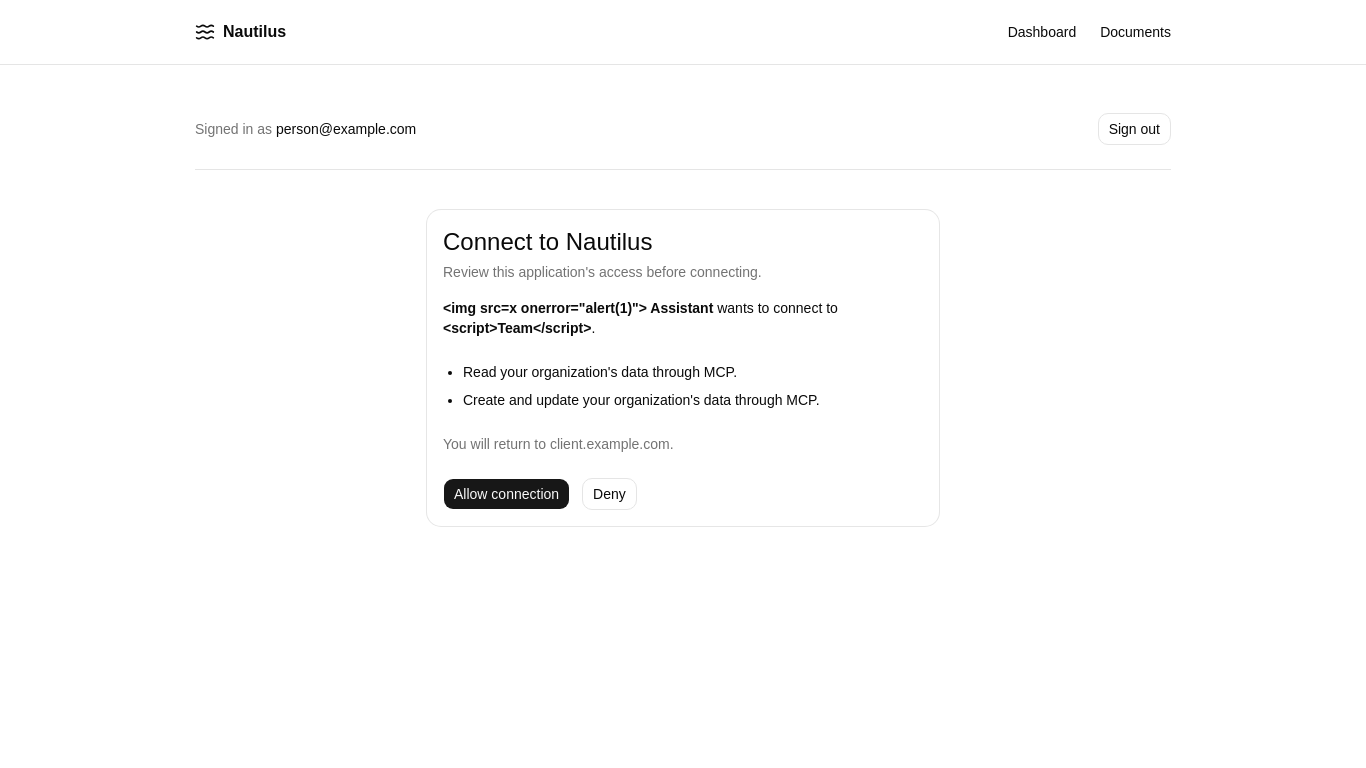
posts reviewed identity and opaque state only after Deny is clicked
This screenshot has width=1366, height=768.
What coordinates should you click on to do the following:
click the button "Deny"
I would click on:
 (609, 494)
Its box is [582, 478, 637, 510].
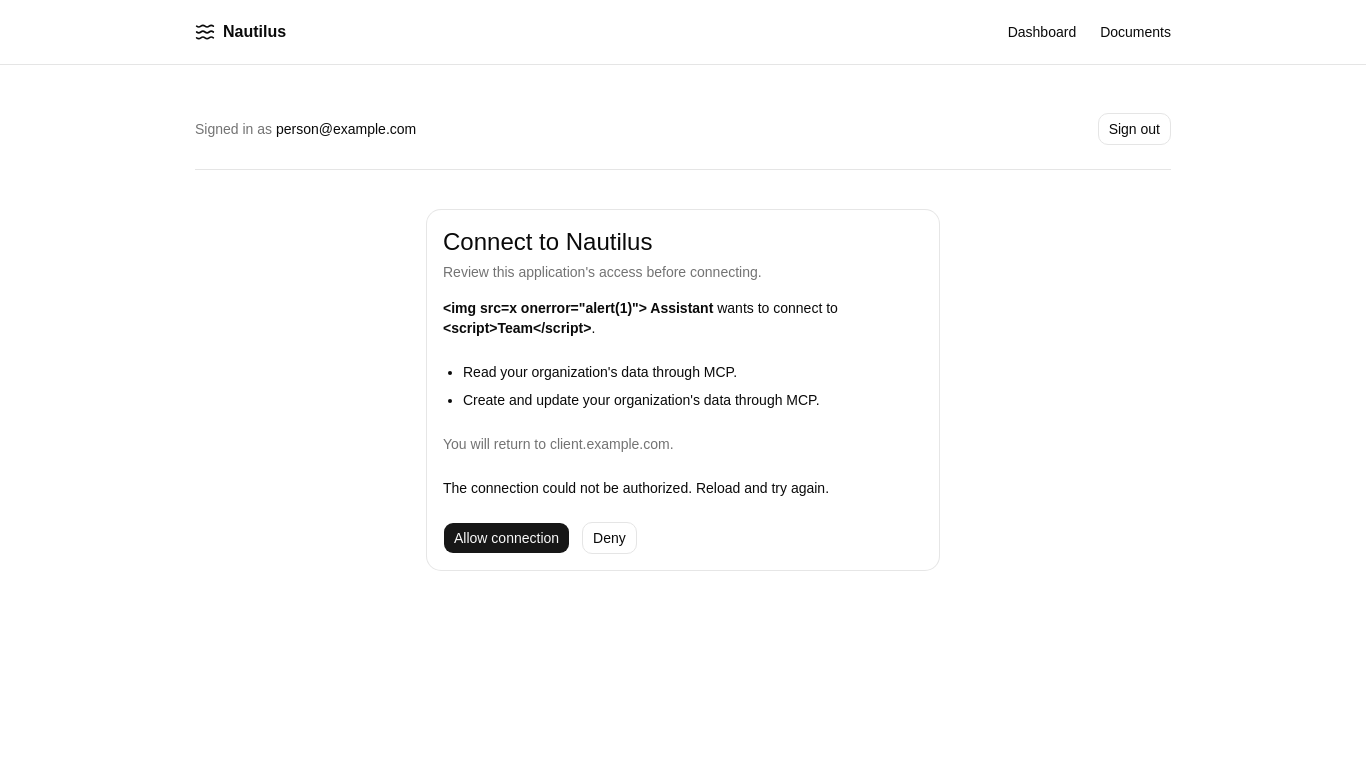
expect the message "The connection could not be authorized. Reload and try again." is shown: met, box [443, 480, 829, 496]
